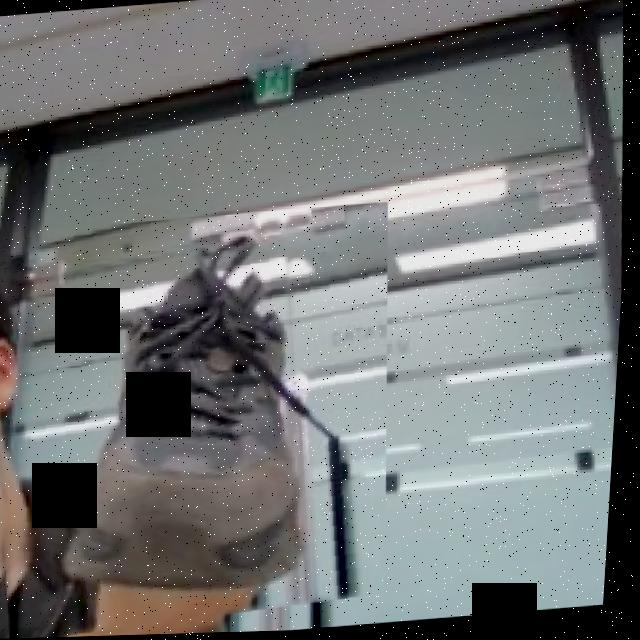shoe: (0, 204, 412, 640)
